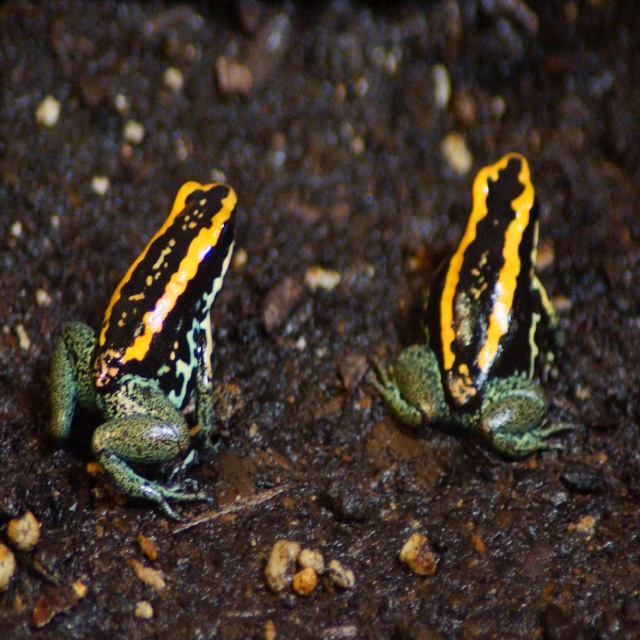Frog: (42, 180, 238, 522), (363, 152, 574, 458)
